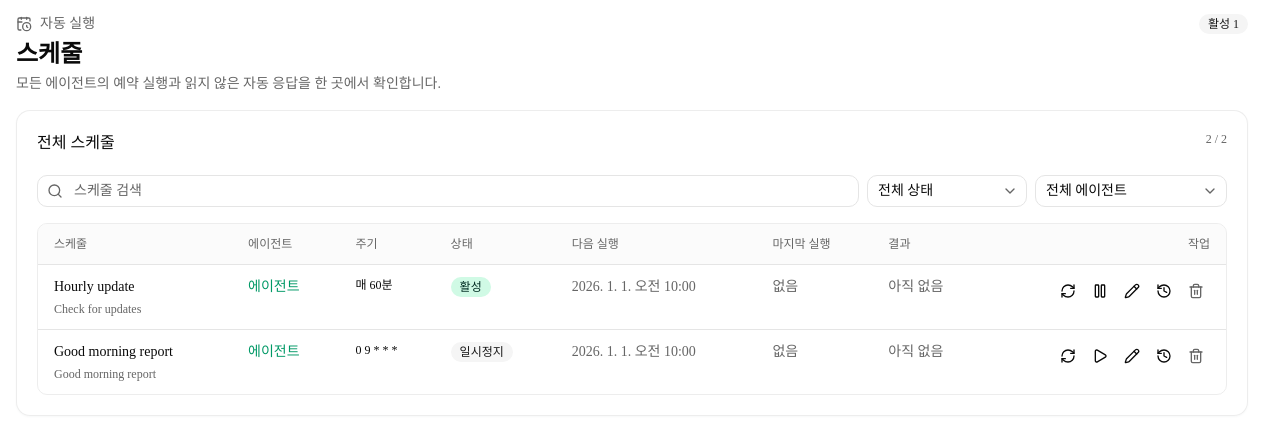
Test case: SchedulesPage › shows an empty state when filters match nothing
The image size is (1265, 433).
Type "없는 스케줄" into the field with placeholder "스케줄 검색" at (448, 191), box [37,175,859,207]
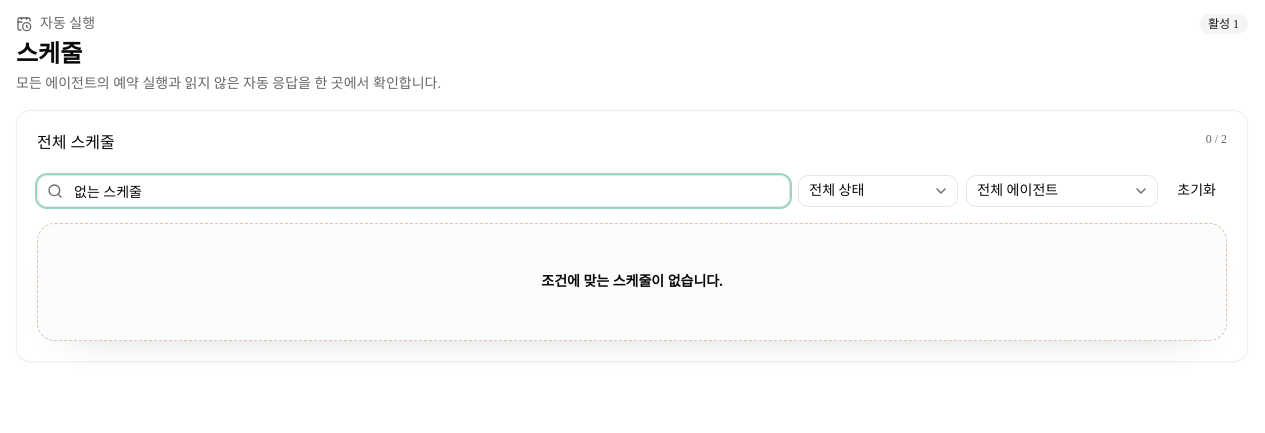
Expected: the text "조건에 맞는 스케줄이 없습니다." is shown, [541,272,723,292]
